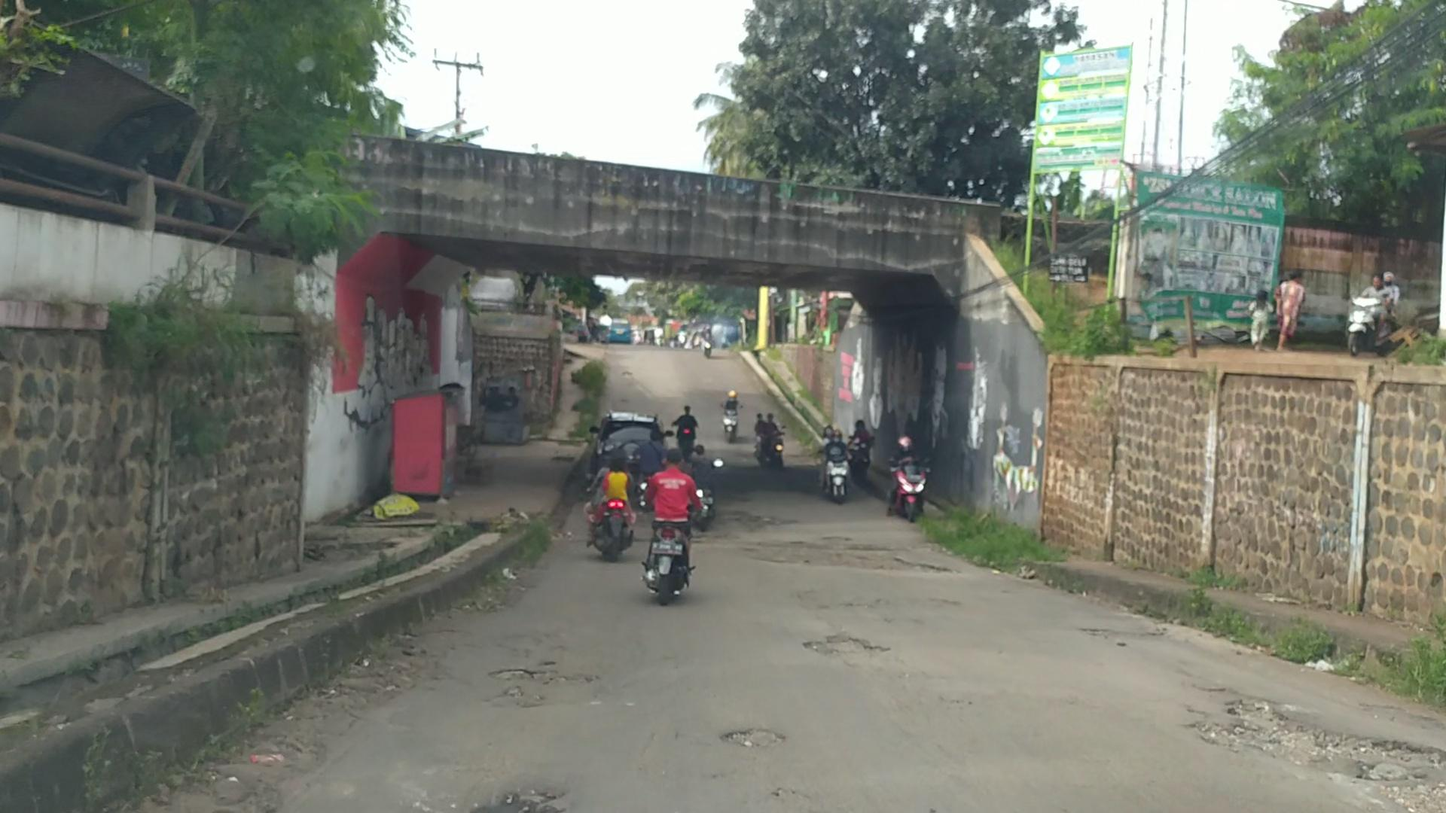pothole: (1211, 682, 1442, 806), (749, 533, 948, 575), (484, 657, 604, 710), (468, 786, 558, 813), (806, 634, 876, 653), (724, 724, 783, 744)
